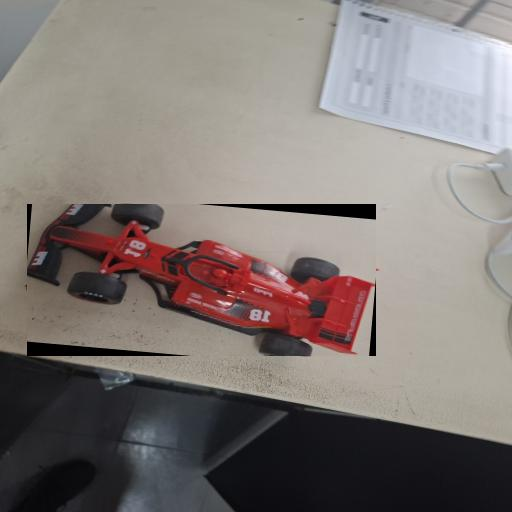carro: (26, 205, 373, 355)
